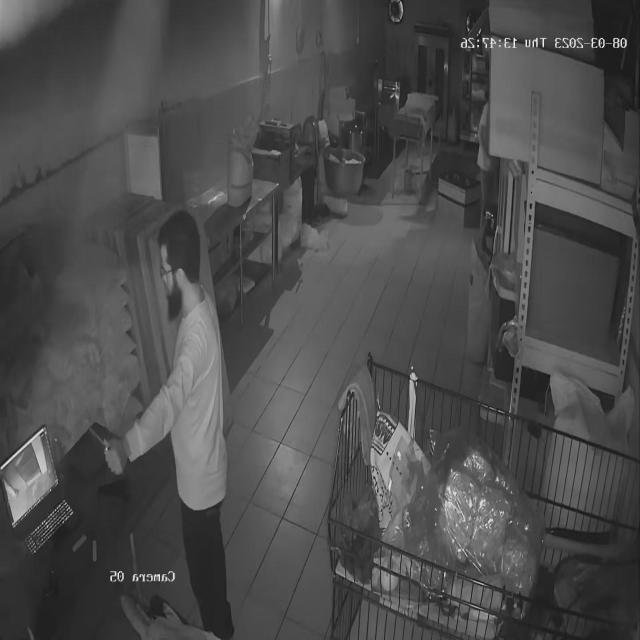Knife: (84, 414, 136, 474)
